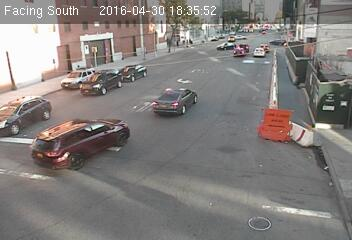neg: (210, 105, 248, 156), (46, 128, 81, 175), (16, 37, 51, 84), (230, 178, 262, 221), (290, 51, 319, 90), (149, 168, 178, 205), (297, 126, 325, 164), (57, 61, 84, 95), (94, 142, 119, 175), (226, 42, 249, 73), (169, 65, 191, 95), (114, 70, 136, 98), (253, 43, 271, 66), (261, 118, 277, 139)
